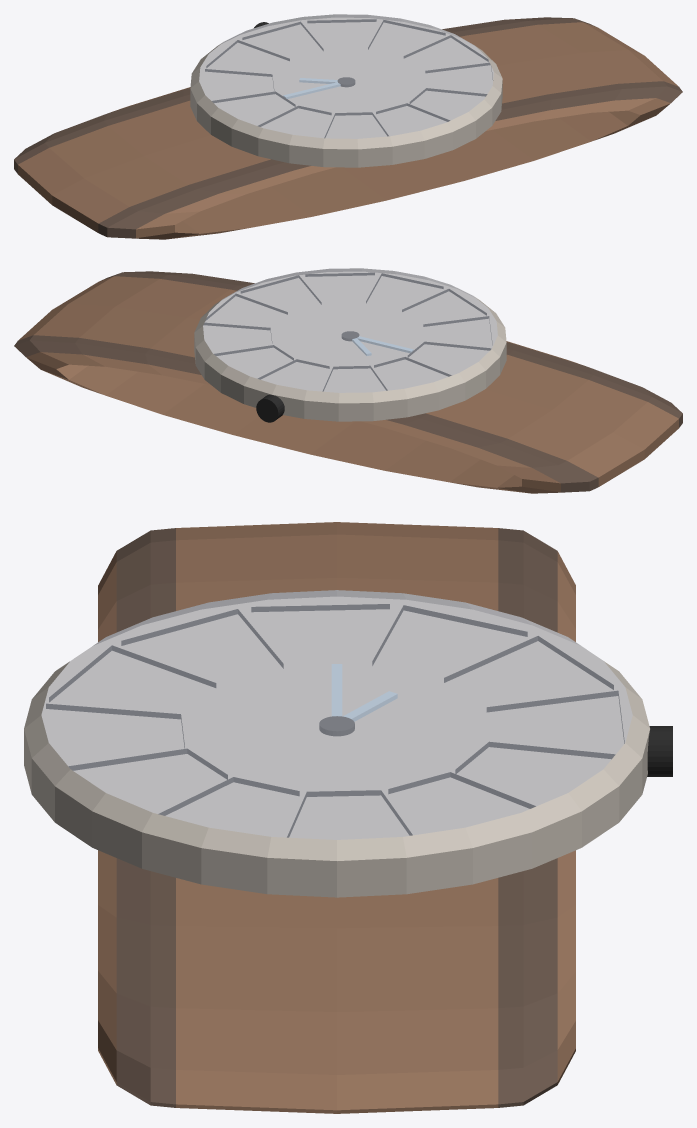
Rendered from Wristwatch.fbx.
3 views of the same model, one above another, from view 1: azimuth 30°, elevation 25°; view 2: azimuth 150°, elevation 25°; view 3: azimuth 270°, elevation 25° (orthographic). The views are drawn at different scales.
Parts seen in each view (by area): view 1: WristWatch; view 2: WristWatch; view 3: WristWatch.
Boxes of the visible parts, <box> form: WristWatch: <box>14,14,682,239</box>; WristWatch: <box>14,268,682,493</box>; WristWatch: <box>24,522,672,1113</box>.
Bounding box in the file's own units: 15.34 × 2.02 × 7.27.
